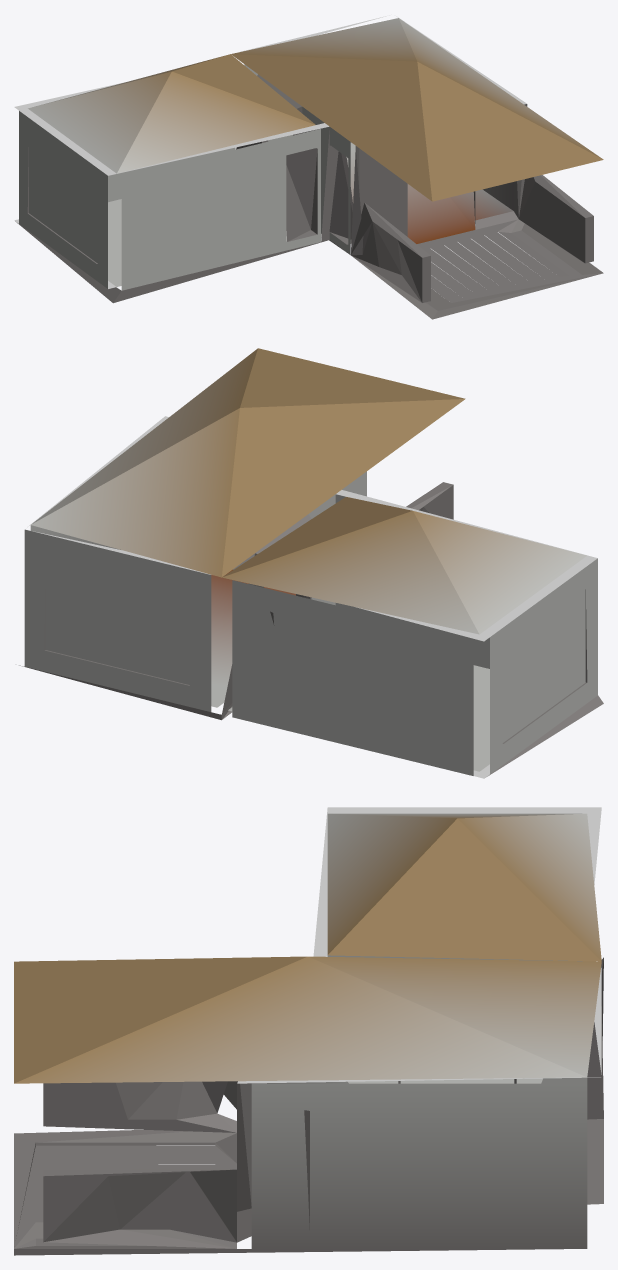
File: pier-hut.lod2.glb
3 views of the same model, one above another, from view 1: azimuth 30°, elevation 25°; view 2: azimuth 150°, elevation 25°; view 3: azimuth 270°, elevation 25° (orthographic). The views are drawn at different scales.
Parts seen in each view (by area): view 1: Material2; view 2: Material2; view 3: Material2.
Boxes of the visible parts, bbox=[...] form: Material2: bbox=[14, 15, 603, 319]; Material2: bbox=[19, 348, 603, 778]; Material2: bbox=[14, 807, 603, 1255].
Bounding box in the file's own units: 12 × 4.96 × 10.76.
